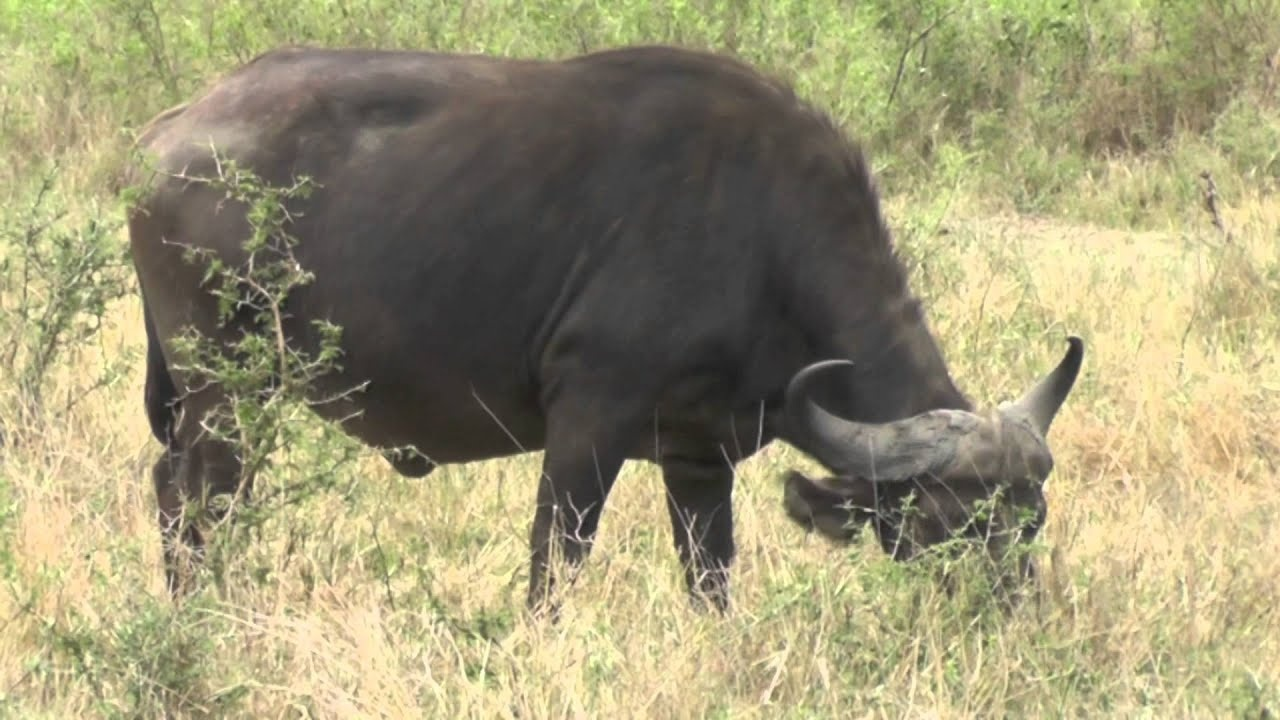buffalo: (119, 39, 1087, 635)
